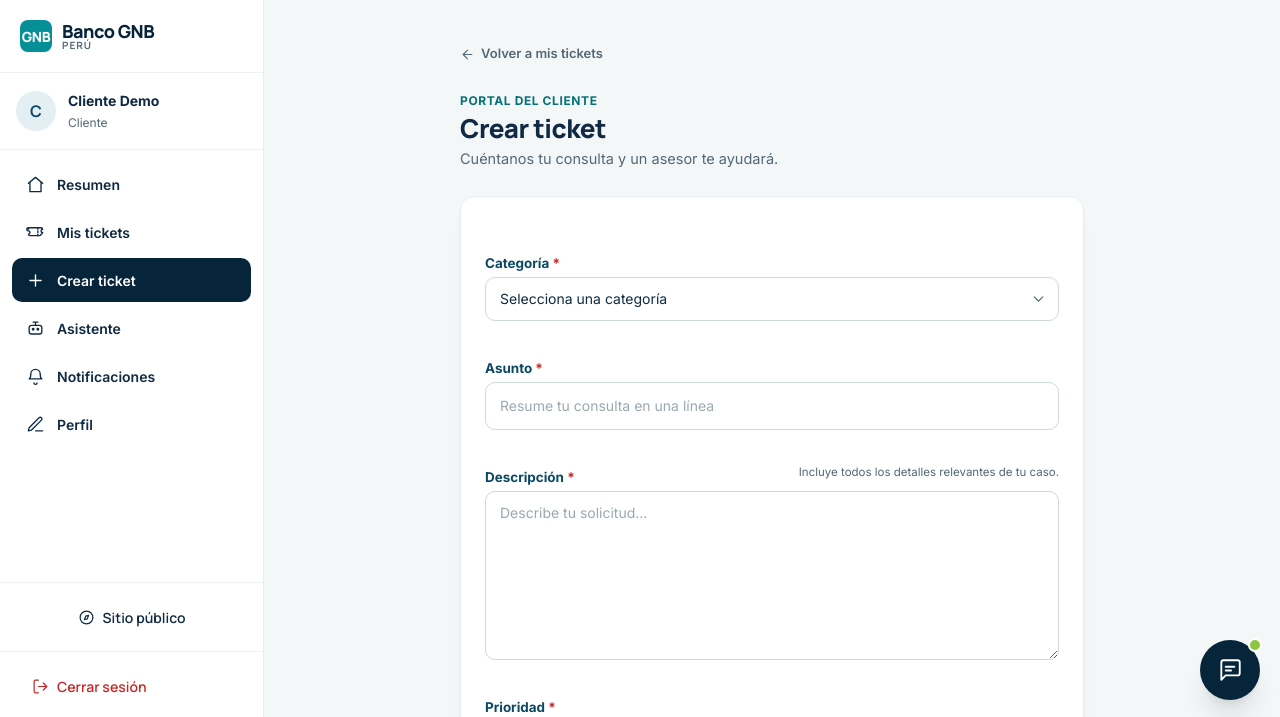
Test: creación manual de tickets › mantiene el formulario cuando la creación responde 401
The width and height of the screenshot is (1280, 717).
Select "Cuentas" in the dropdown labelled "Categoría" at point(772, 299), box x1=485 y1=277 x2=1059 y2=321
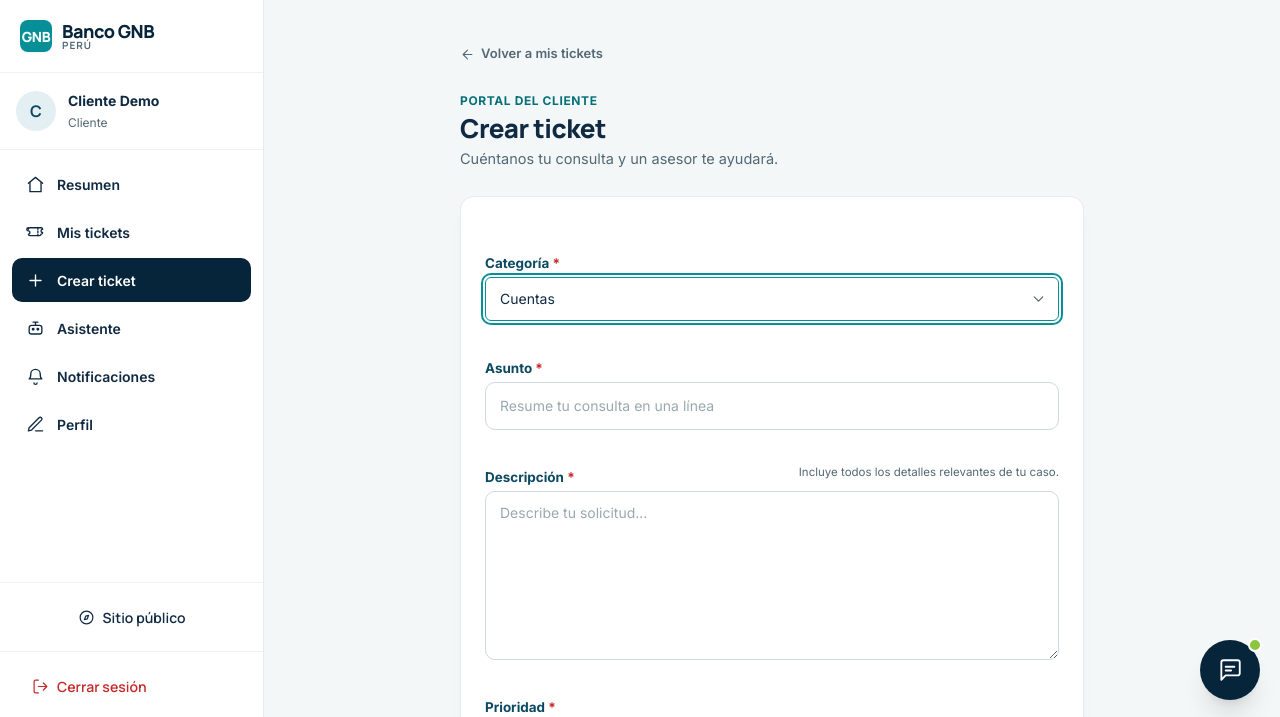
Type "Nueva solicitud" into the field labelled "Asunto" at point(772, 406), box x1=485 y1=382 x2=1059 y2=430
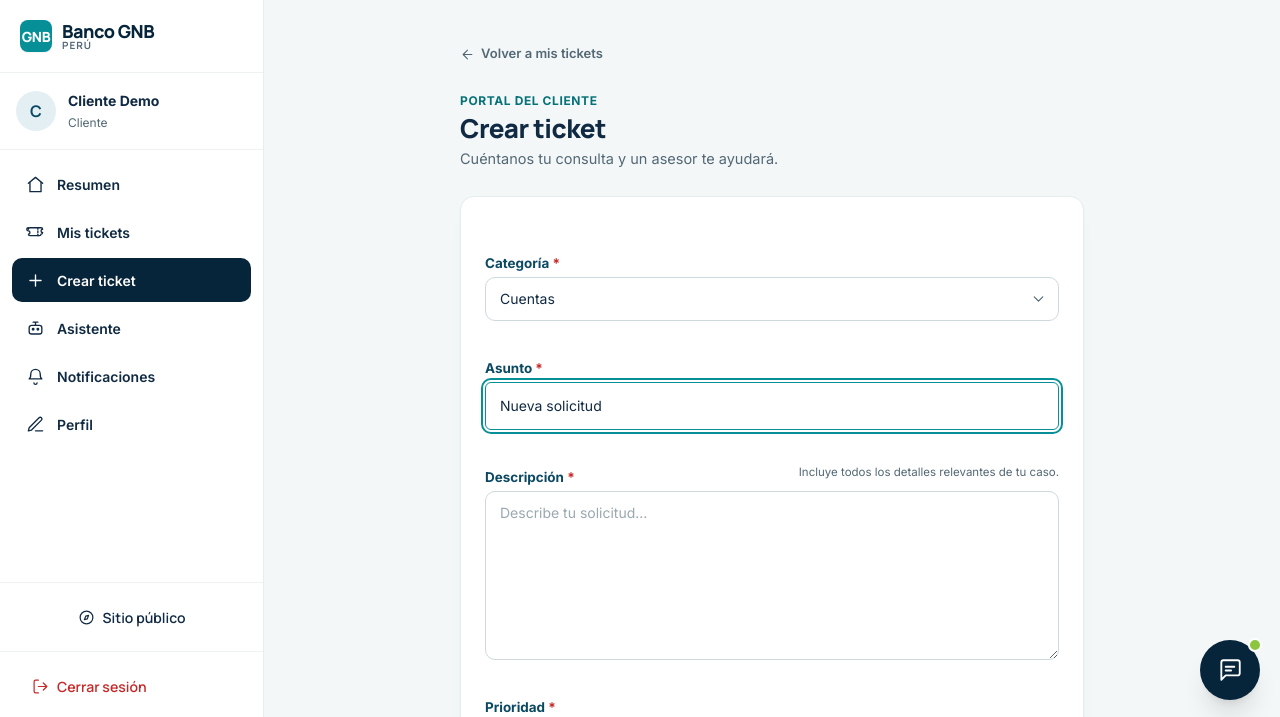
Type "Descripción de la nueva solicitud" into the text box labelled "Descripción" at point(772, 575), box x1=485 y1=491 x2=1059 y2=660
(page scrolled)
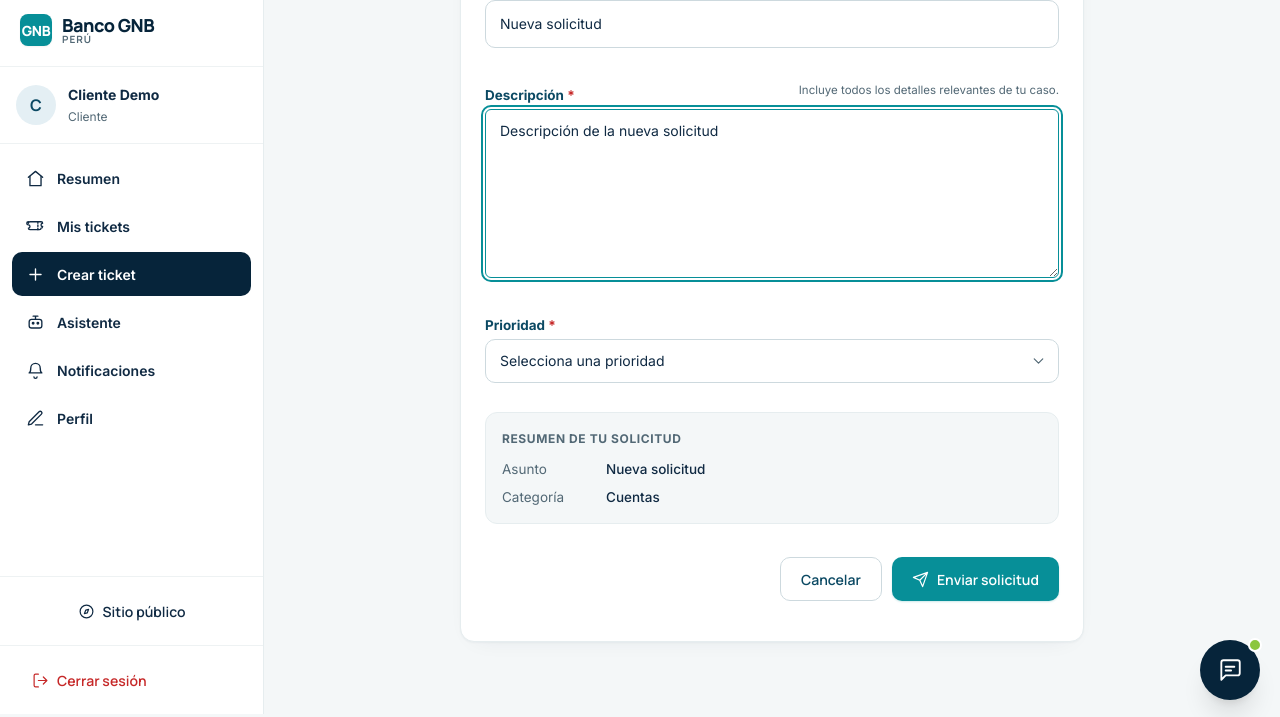
Select "Media" in the dropdown labelled "Prioridad" at point(772, 361), box x1=485 y1=339 x2=1059 y2=383
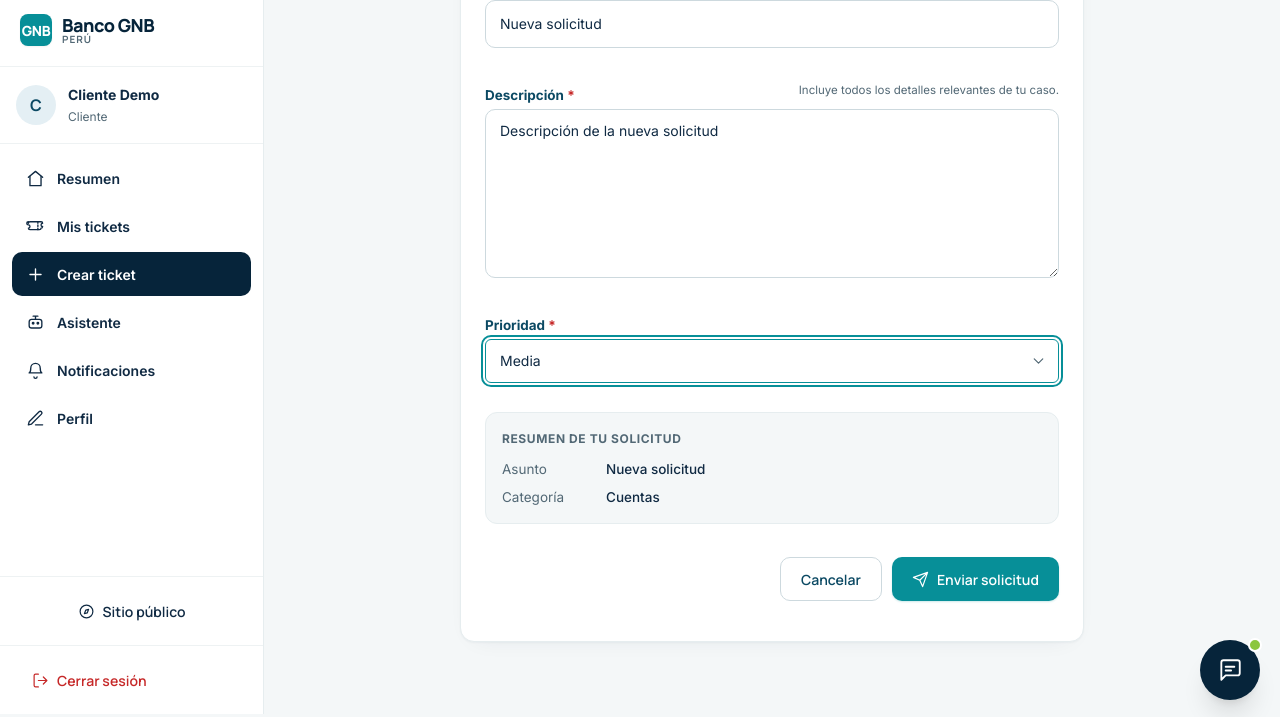
Click the button "Enviar solicitud" at point(975, 579), box x1=892 y1=557 x2=1059 y2=601
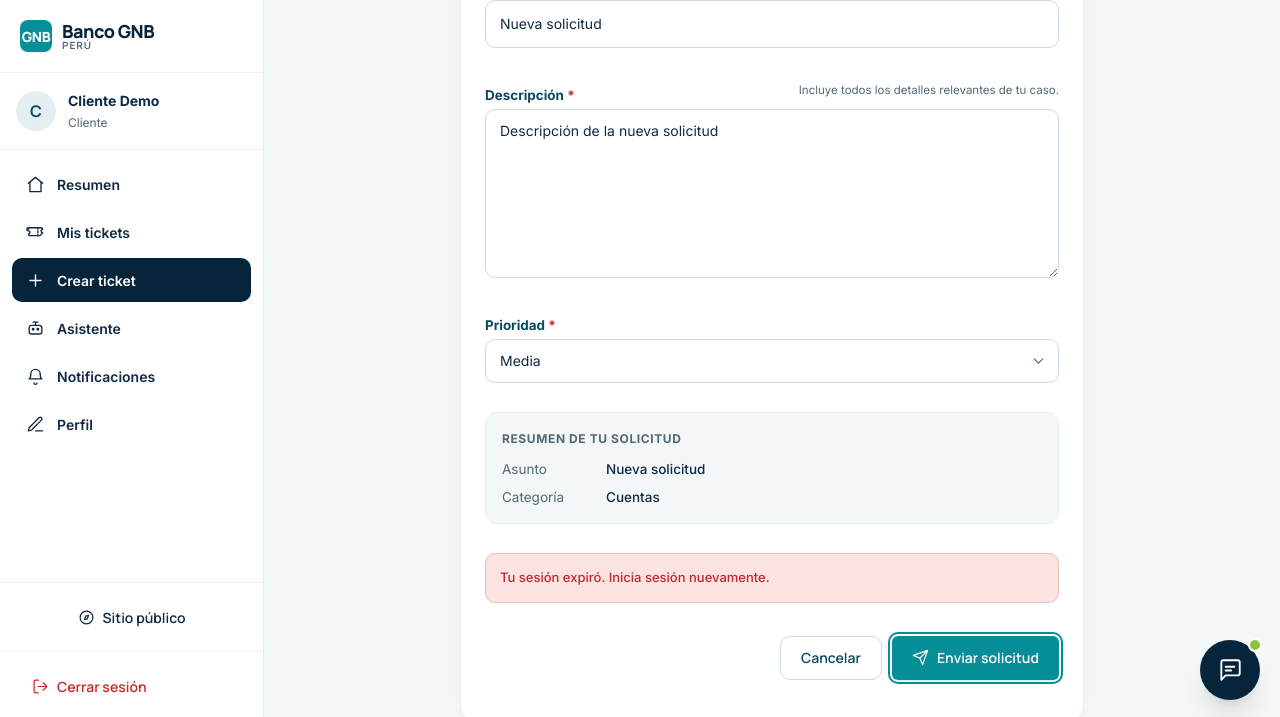
Check: the message shows "sesión expiró", box x1=500 y1=569 x2=770 y2=585
